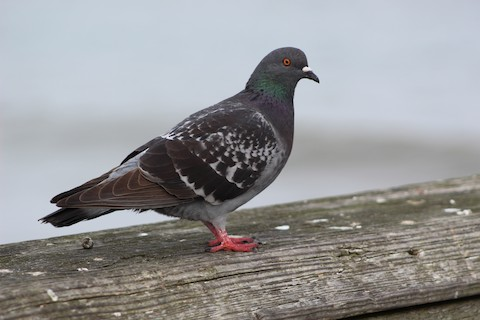pigeon: (33, 40, 323, 256)
